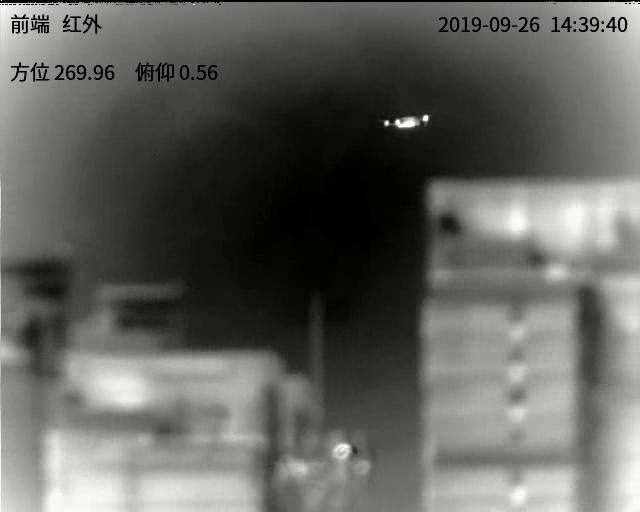DRONE: (383, 113, 430, 131)
